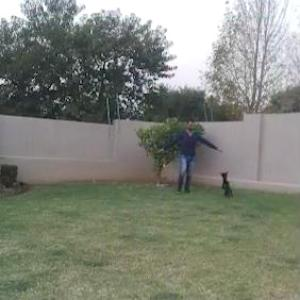land: (141, 104, 215, 203)
